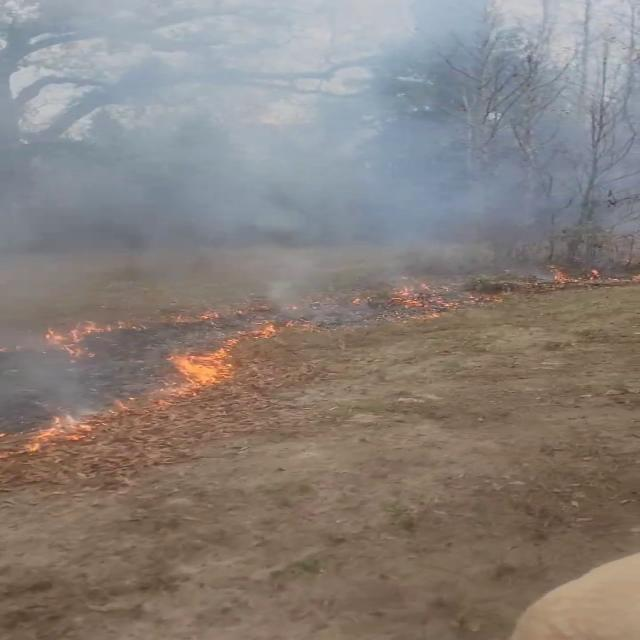Fire: (159, 338, 249, 396), (40, 316, 114, 364)
Smoke: (6, 5, 633, 323)
